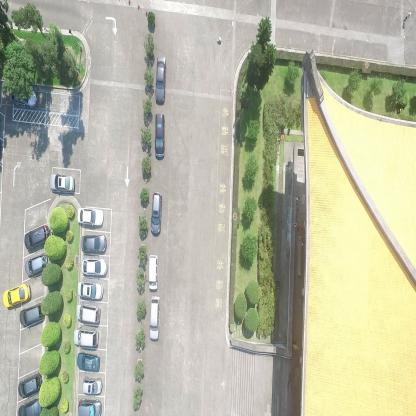car: (2, 279, 30, 309), (8, 84, 38, 108), (24, 222, 50, 249), (18, 369, 42, 398), (20, 300, 44, 327), (150, 189, 163, 237), (25, 250, 48, 277), (155, 56, 167, 106), (77, 204, 104, 226), (154, 112, 166, 160), (81, 232, 107, 254), (73, 326, 99, 348), (80, 258, 108, 278), (76, 280, 103, 300), (50, 172, 74, 194), (18, 394, 42, 415), (149, 296, 160, 340), (76, 304, 100, 323), (78, 397, 102, 415), (148, 254, 159, 291), (77, 354, 100, 371), (82, 377, 103, 395)
